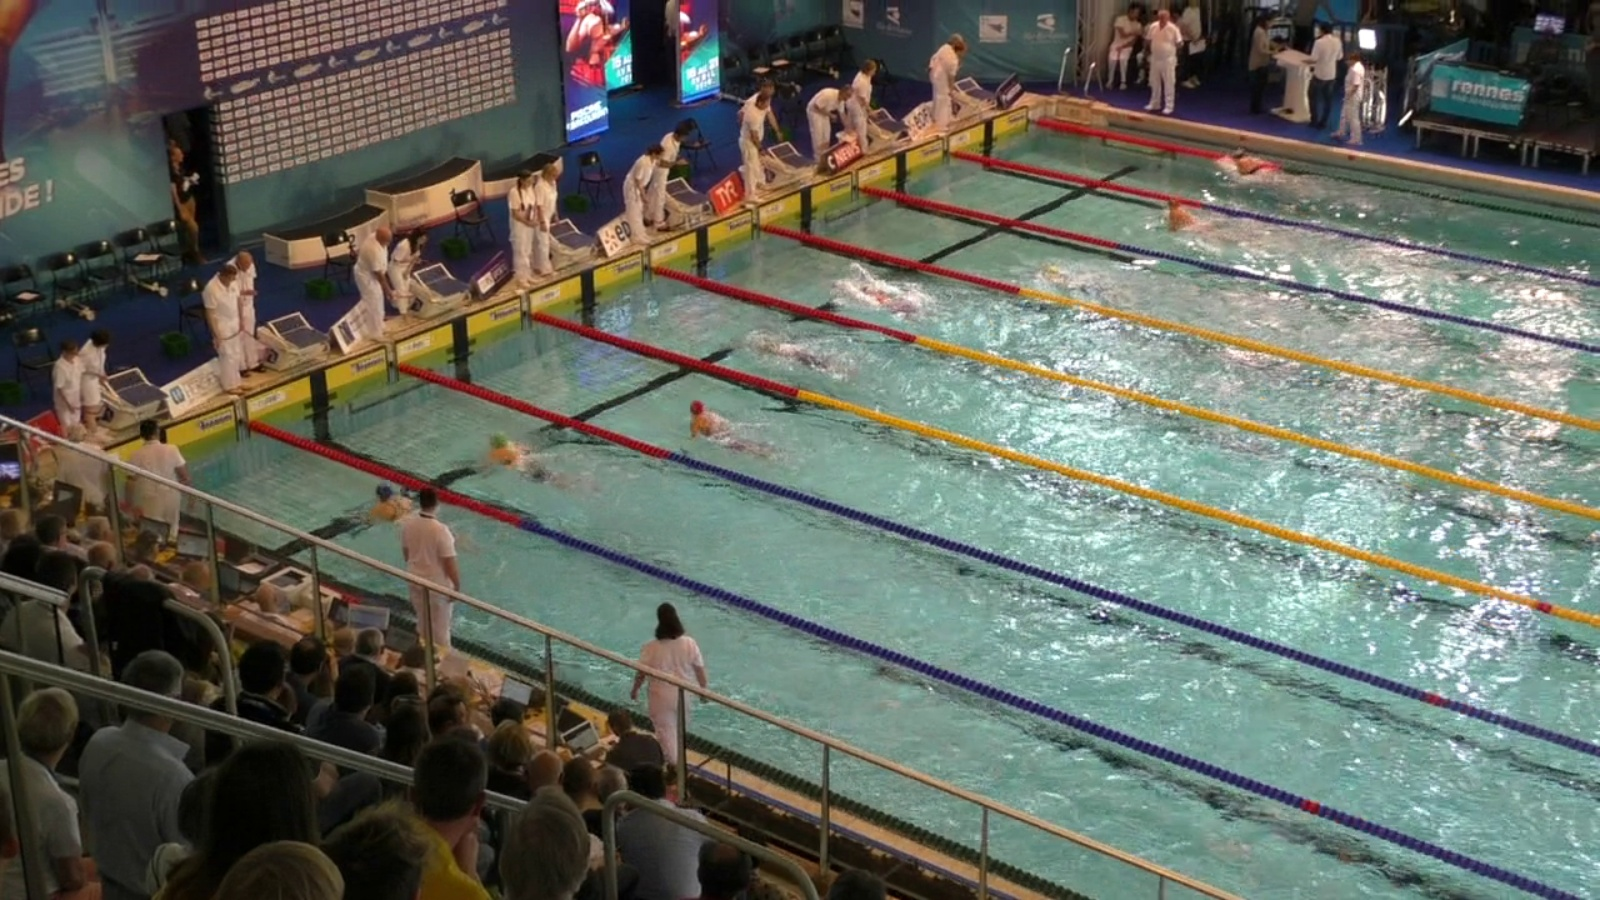swimmerwdd: (355, 484, 497, 568), (482, 427, 616, 497), (682, 401, 801, 464), (749, 331, 849, 384), (1033, 257, 1149, 296), (1162, 200, 1245, 253), (1221, 140, 1302, 192), (854, 279, 943, 325)
